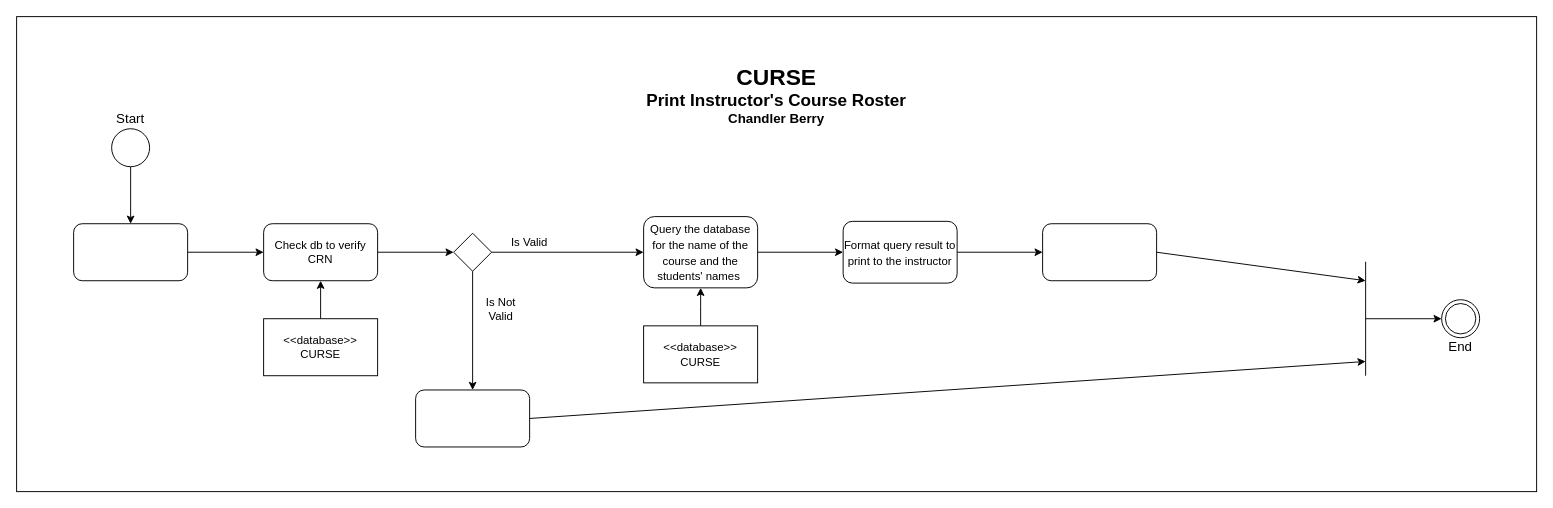
Some shapes in this 1553 by 508 pixel diagram are drawn without their labels. The centre of each missing label's shape, as x and y in pixels:
"Notify user they entered an invalid CRN" goes at (472,418).
"Print list of Names to Instructor" goes at (1099,252).
"Prompt instructor to enter CRN" goes at (130,252).
